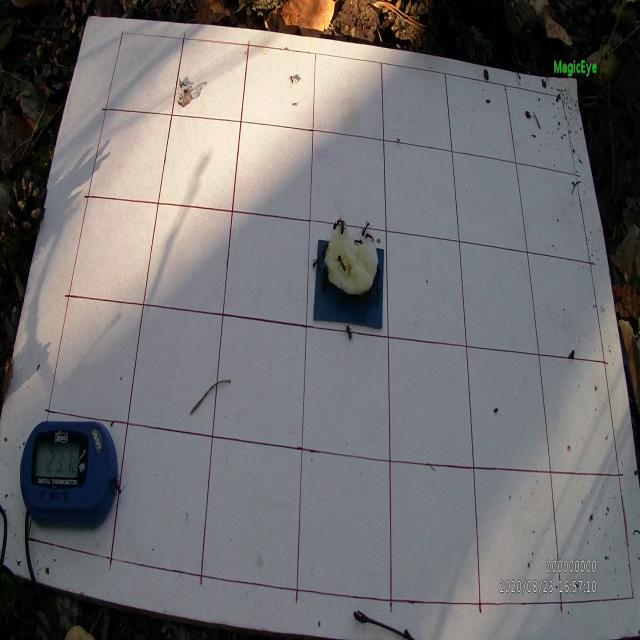Ant: (335, 254, 348, 279), (373, 277, 382, 305), (344, 324, 354, 344), (359, 220, 371, 236), (332, 216, 341, 237), (310, 256, 322, 269), (339, 219, 346, 240), (365, 232, 376, 245), (287, 74, 297, 87), (354, 236, 363, 246)
